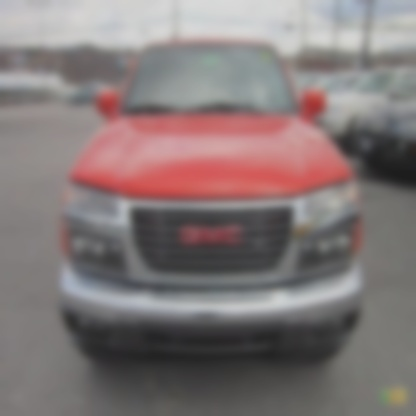Vehicle: (60, 28, 364, 372)
